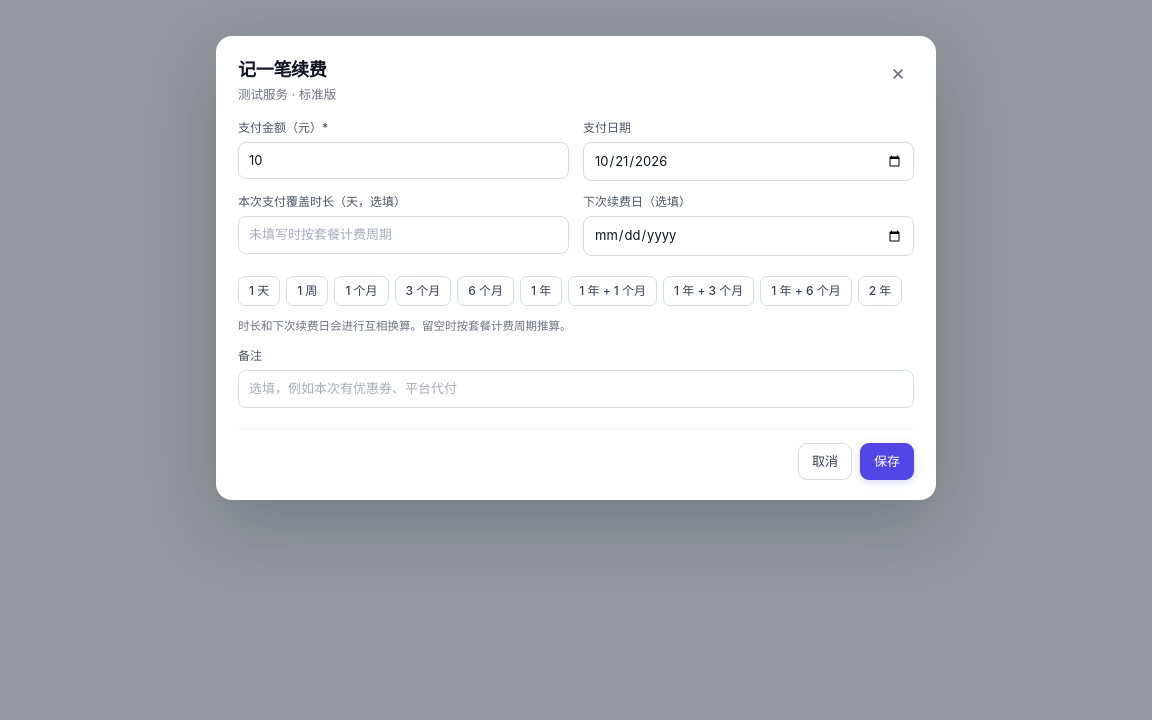
Scenario: PaymentForm › prefills the last payment and converts duration to the next renewal date
Expected: the heading "记一笔续费" is shown, left=238, top=56, right=336, bottom=83
Expected: the number field with placeholder "0.00" holds "10", left=238, top=142, right=569, bottom=179
Type "30" into the number field with placeholder "未填写时按套餐计费周期" at point(404, 235), box left=238, top=216, right=569, bottom=254
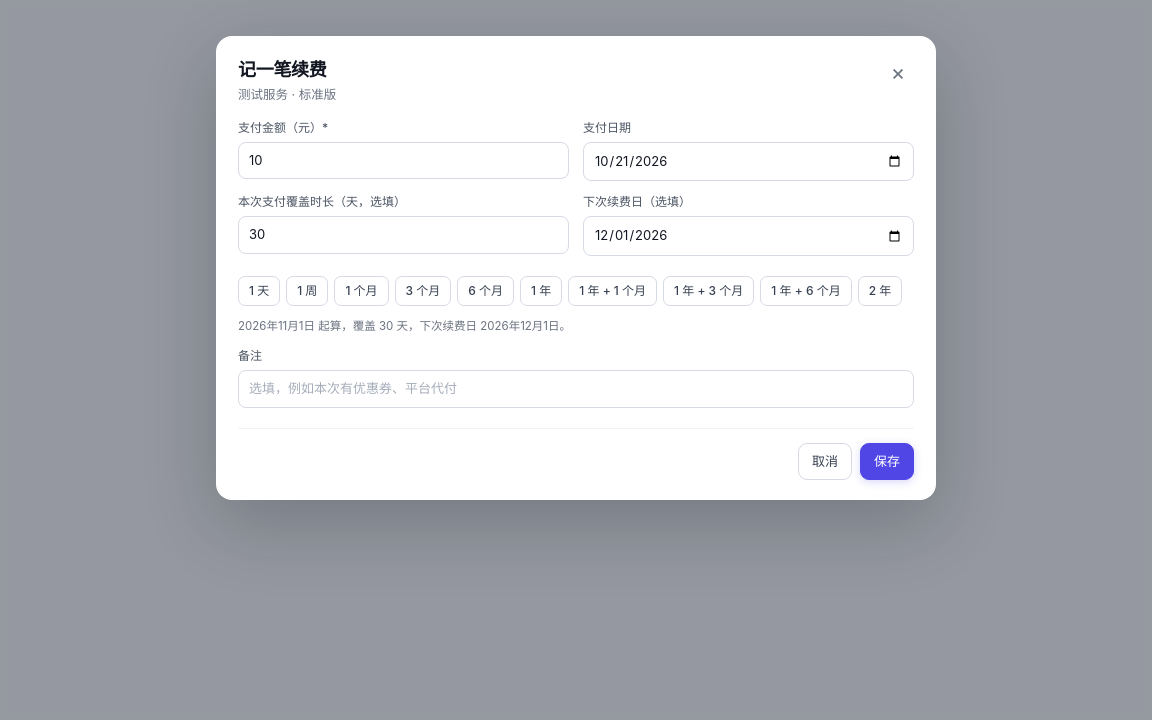
Now the date field showing "2026-12-01" below "下次续费日（选填）" is shown
Type "2026-12-15" into the date field showing "2026-12-01" below "下次续费日（选填）" at point(748, 236), box left=583, top=216, right=914, bottom=256
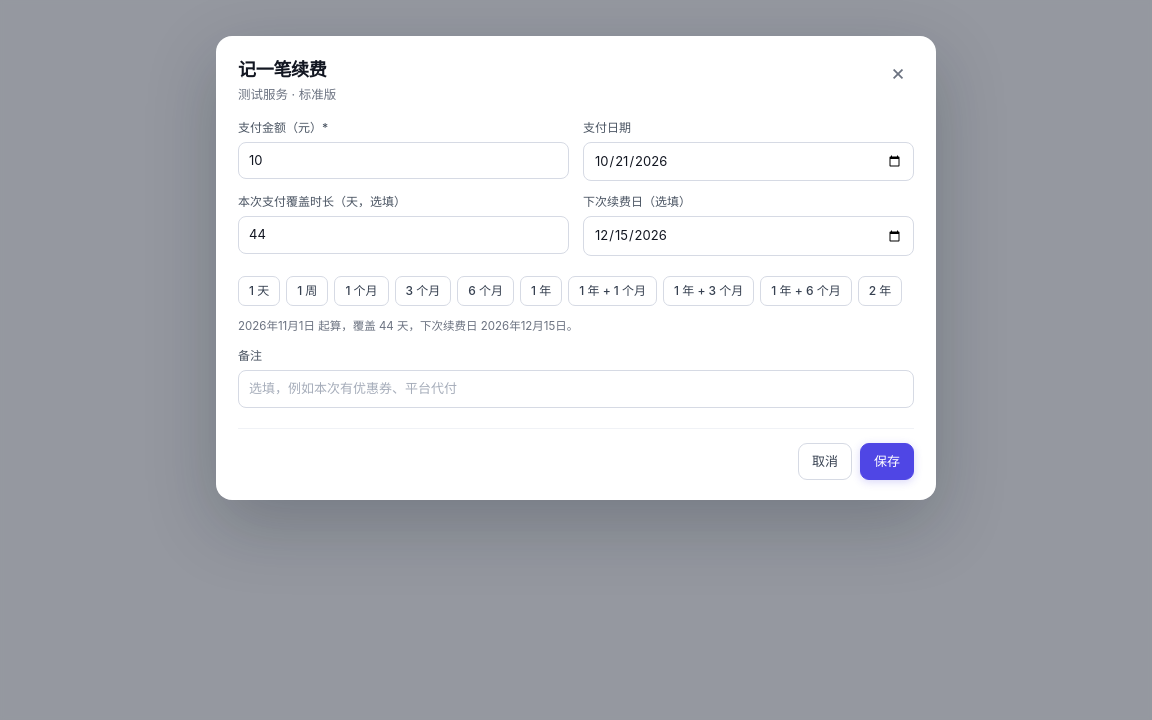
Now the number field with placeholder "未填写时按套餐计费周期" below "本次支付覆盖时长（天，选填）" holds "44", box left=238, top=216, right=569, bottom=254
